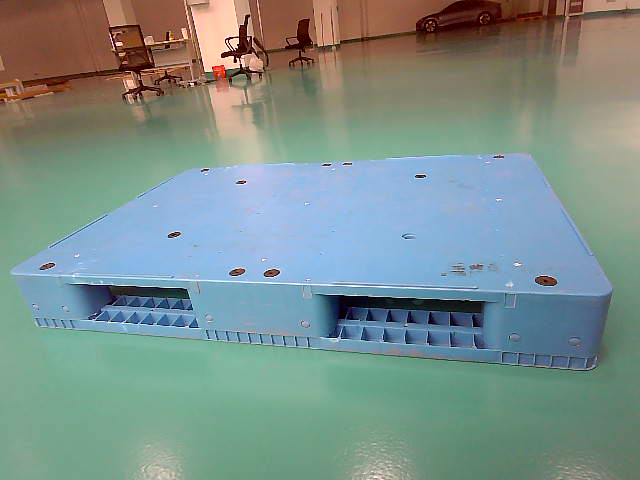block: (481, 290, 611, 366), (185, 278, 319, 348), (11, 268, 89, 330)
front: (10, 273, 613, 365)
hole pallet: (320, 294, 486, 345), (73, 285, 196, 326)
